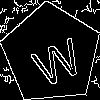W: (26, 28, 86, 89)
